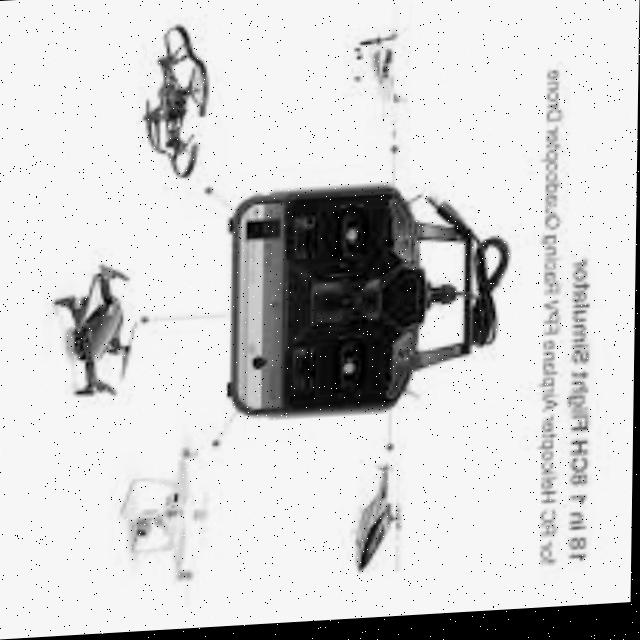drone: (101, 434, 235, 606), (42, 247, 161, 415), (136, 6, 217, 194), (342, 16, 425, 182)
